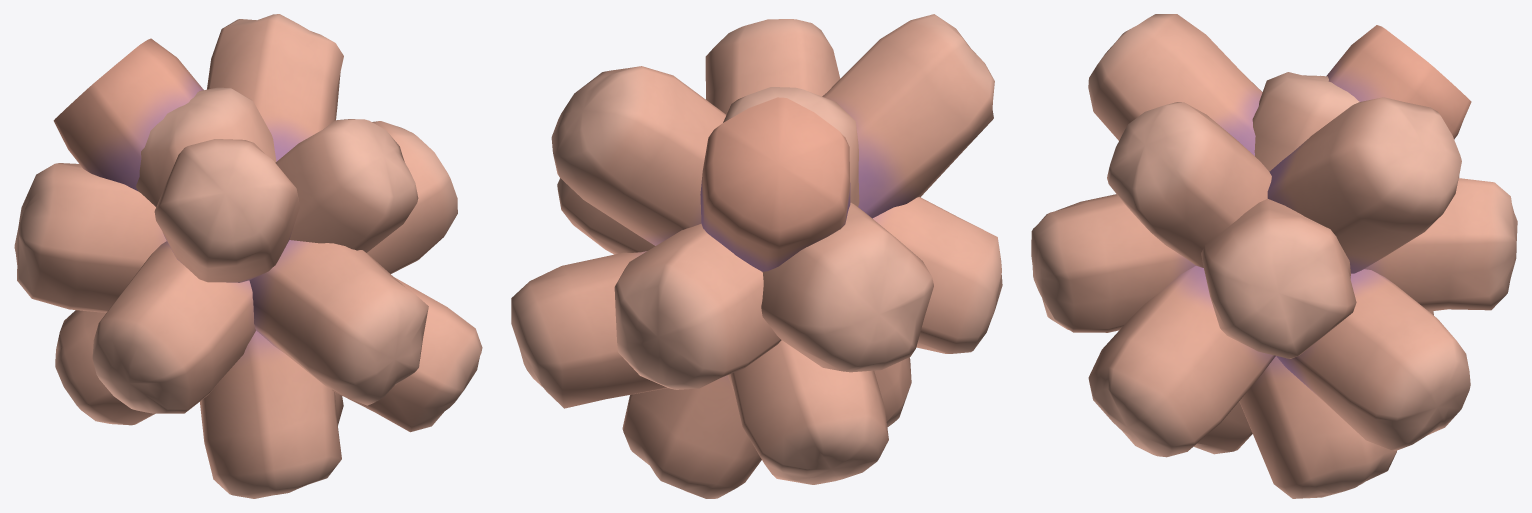
File: Polyp_CellCluster_Stage1.fbx
3 renders of one model, left to right at view 1: azimuth 30°, elevation 25°; view 2: azimuth 150°, elevation 25°; view 3: azimuth 270°, elevation 25°, orthographic. The views are drawn at different scales.
Visible parts, largest first — view 1: Polyp_CellCluster_Stage1; view 2: Polyp_CellCluster_Stage1; view 3: Polyp_CellCluster_Stage1.
Boxes of the visible parts, <box> form: Polyp_CellCluster_Stage1: <box>14,14,482,498</box>; Polyp_CellCluster_Stage1: <box>511,14,1002,498</box>; Polyp_CellCluster_Stage1: <box>1031,14,1517,498</box>.
Size of the model in its own units: 2.09 by 2.22 by 2.33.
